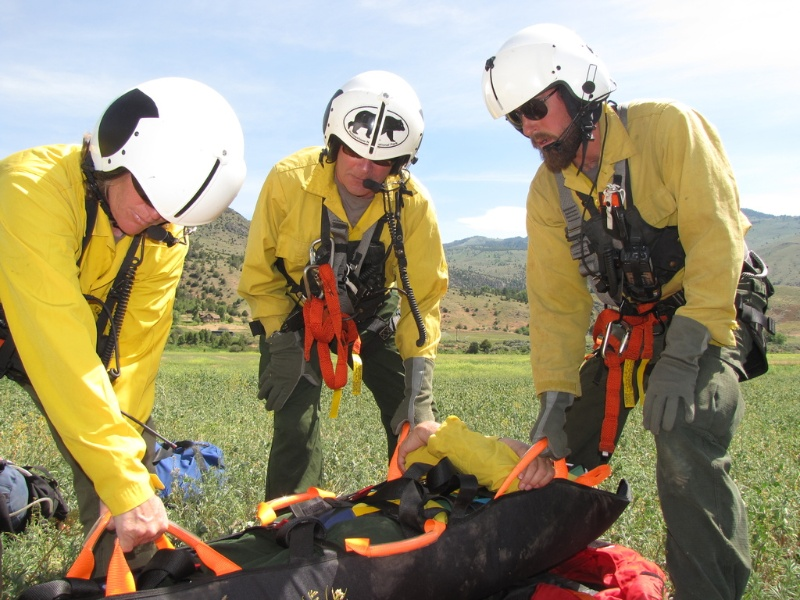Baret: (108, 77, 248, 223), (482, 24, 612, 112), (322, 70, 423, 158)
